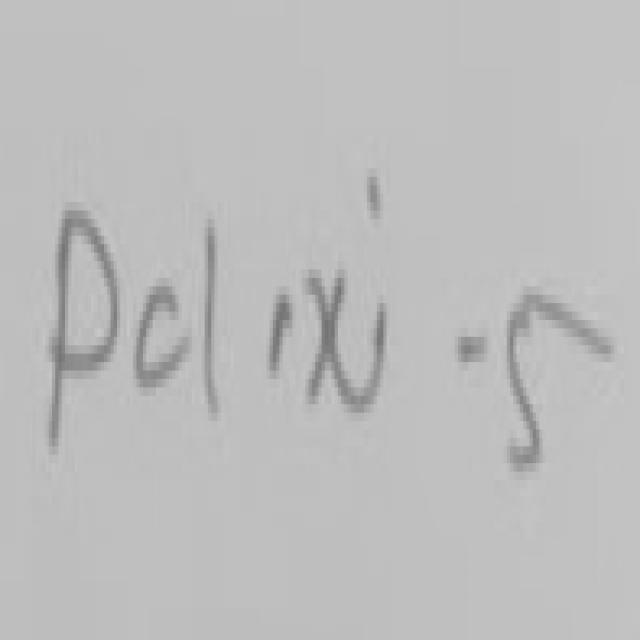0: (270, 295, 292, 375)
5: (510, 295, 614, 472)
P: (52, 211, 117, 442)
a: (136, 286, 188, 387)
i: (370, 312, 387, 396), (370, 177, 383, 219)
l: (205, 227, 218, 413)
x: (309, 278, 354, 404)
